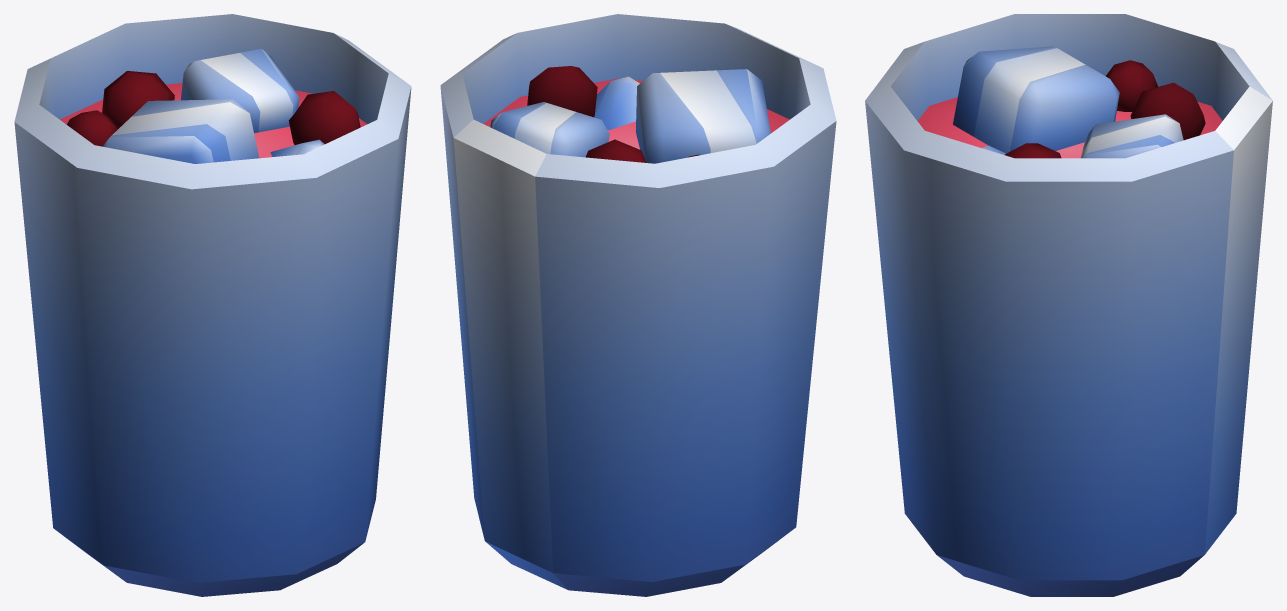
File: m_BerryCocktail01.fbx
3 views of the same model, side by side, from view 1: azimuth 30°, elevation 25°; view 2: azimuth 150°, elevation 25°; view 3: azimuth 270°, elevation 25° (orthographic).
Visible parts, largest first — view 1: m_BerryCocktail01; view 2: m_BerryCocktail01; view 3: m_BerryCocktail01.
Part boxes in pixels (x1,y1,x2,y2): m_BerryCocktail01: (14,14,411,596); m_BerryCocktail01: (440,14,836,596); m_BerryCocktail01: (865,14,1272,596).
Size of the model in its own units: 12.35 by 16.09 by 12.98.
